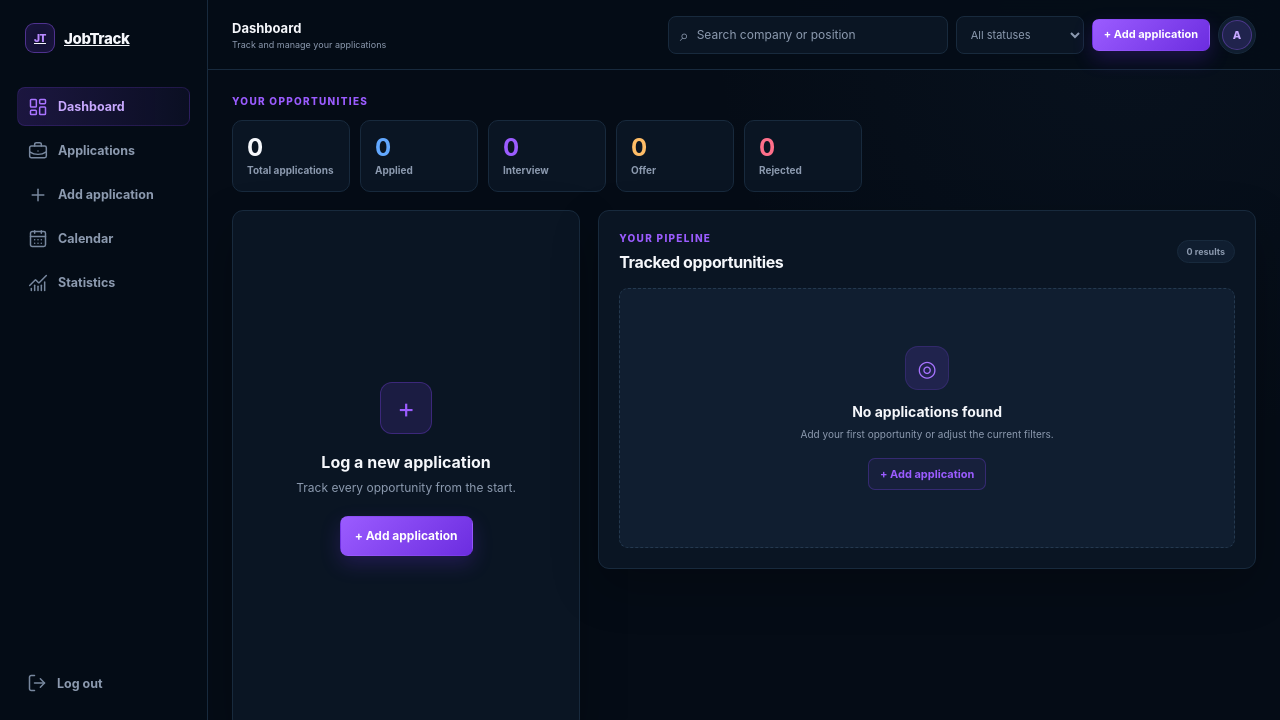
Scenario: ApplicationsPage › creates an application from the form
Expected: the heading "No applications found" is shown, [852,403,1002,420]
Click the button "Add application".
click(104, 194)  # box [17,175,190,214]
(page scrolled)
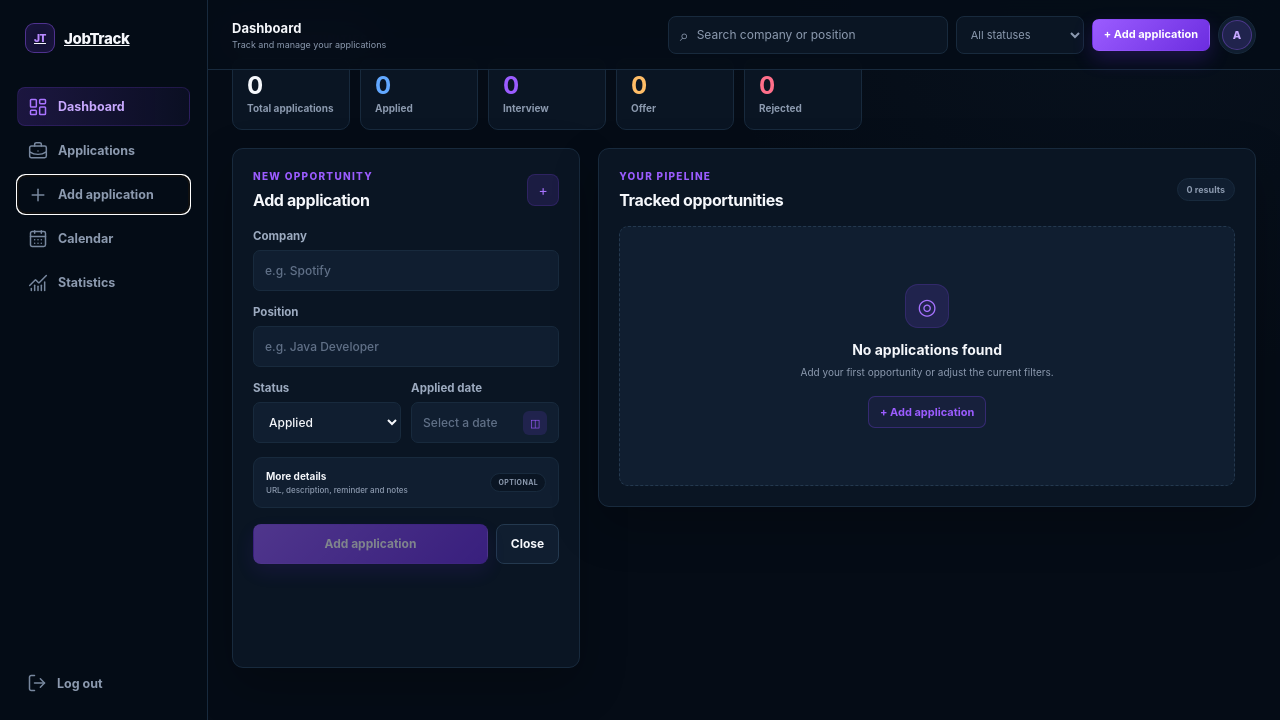
Type "  Acme  " into the field labelled "Company".
click(406, 270); type("  Acme  ")  # box [253,250,559,291]
Type "  Java Developer  " into the field labelled "Position".
click(406, 346); type("  Java Developer  ")  # box [253,326,559,367]
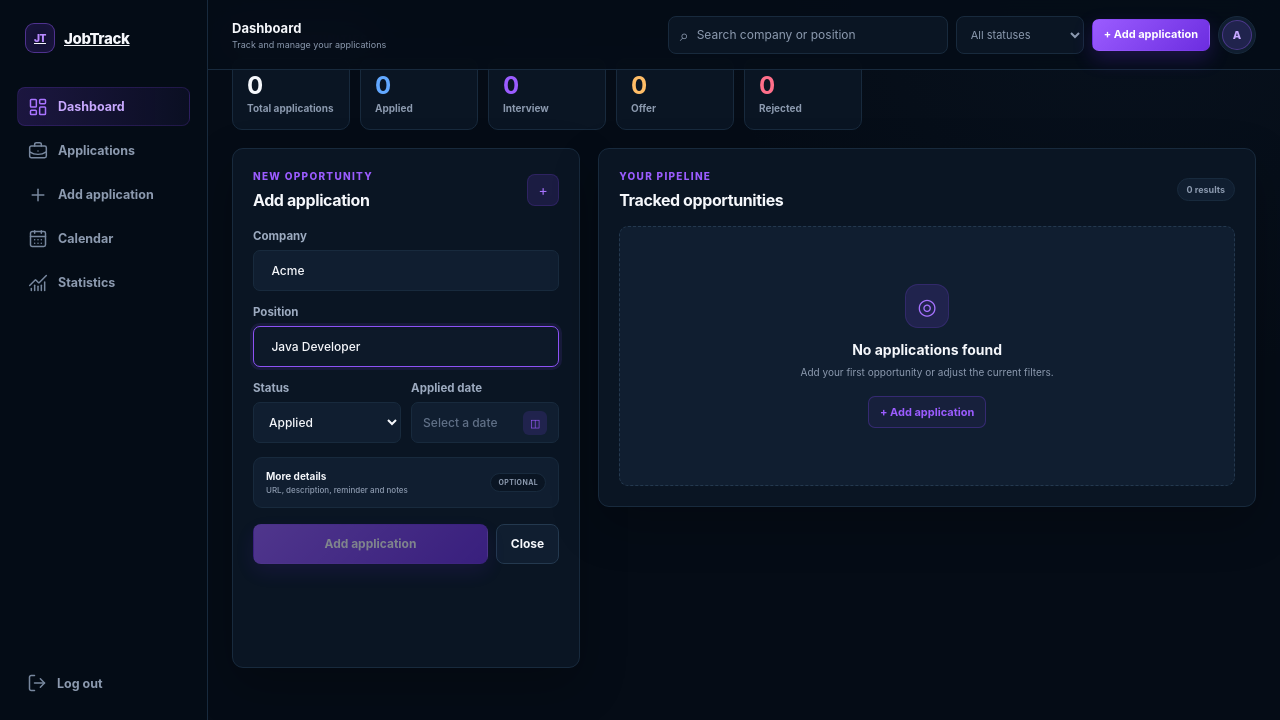
Click the button with aria-label "Applied date".
click(485, 422)  # box [411,402,559,443]
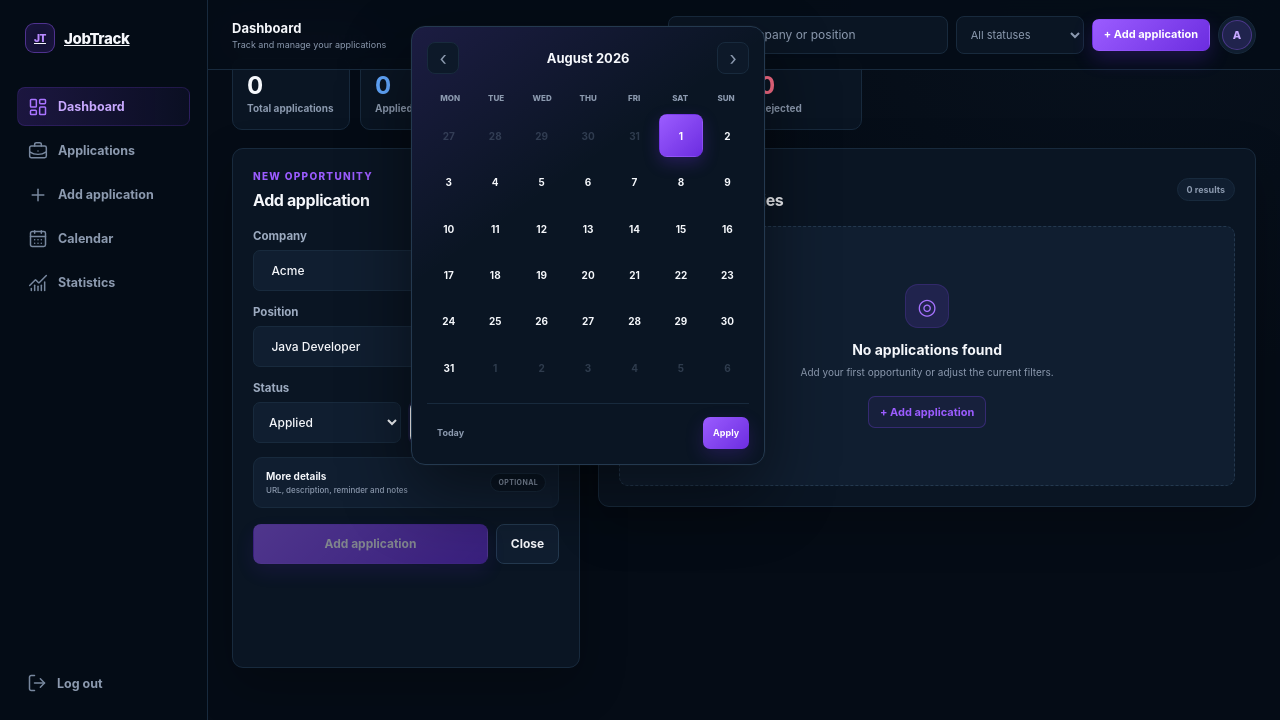
Click the button "Today".
click(451, 433)  # box [427,417,474,449]
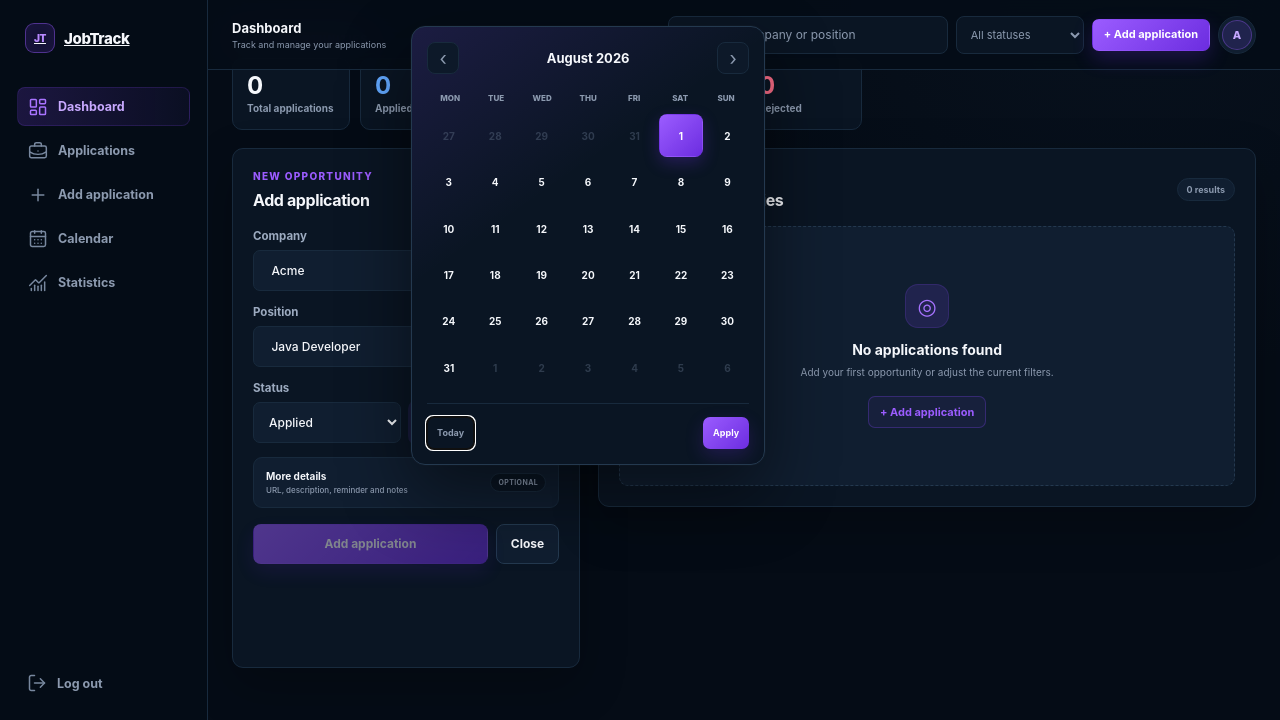
Click the button "Apply".
click(726, 433)  # box [703,417,749,449]
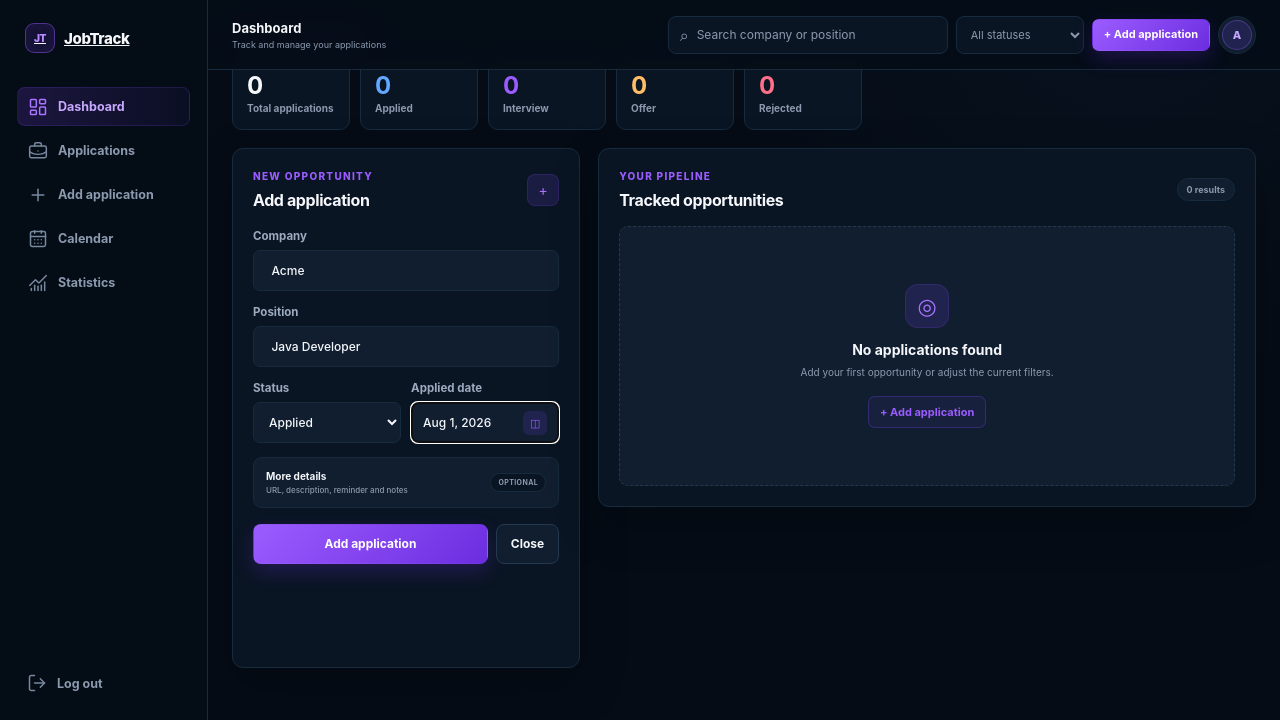
Click the button "Add application" below "URL, description, reminder and notes".
click(370, 544)  # box [253,524,488,564]
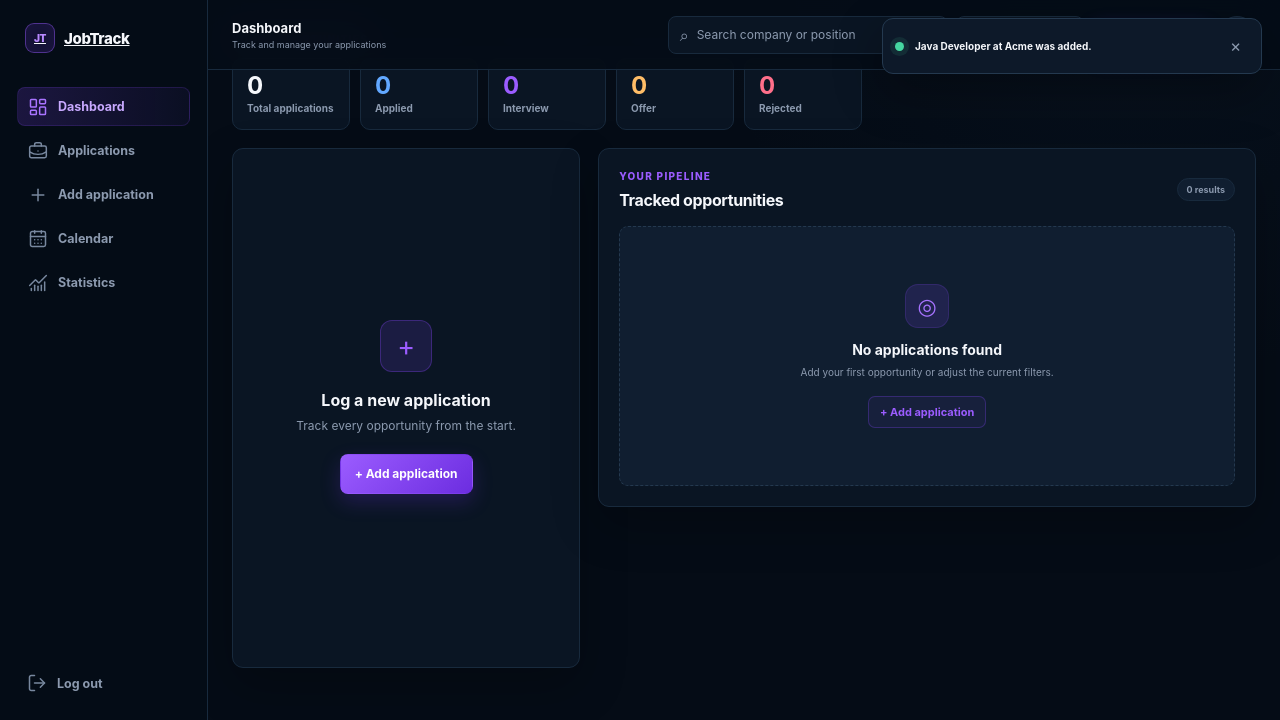
Now the text "Java Developer at Acme was added." is shown, box [915,40,1092,52]
